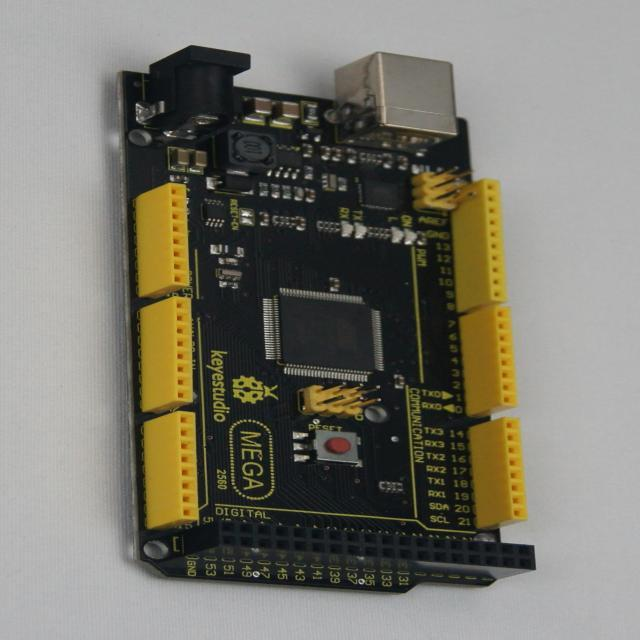Arduino Mega 2560 -Yellow-: (122, 47, 534, 592)
